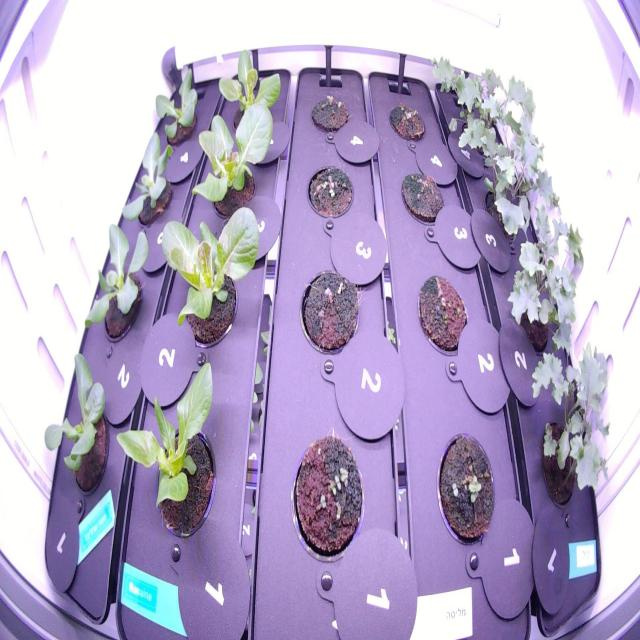germination: (284, 419, 371, 576), (433, 417, 502, 562), (295, 257, 365, 369), (411, 262, 477, 369), (394, 157, 454, 235), (298, 155, 358, 229), (381, 95, 434, 154), (305, 86, 354, 142)
young: (113, 347, 245, 570), (148, 192, 271, 370), (36, 344, 123, 518), (187, 94, 283, 236), (76, 200, 156, 367), (210, 38, 290, 151), (114, 120, 182, 247), (146, 53, 203, 161)
